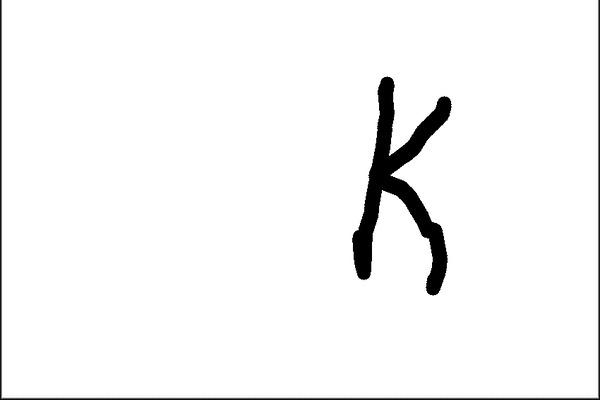K: (346, 71, 460, 300)
